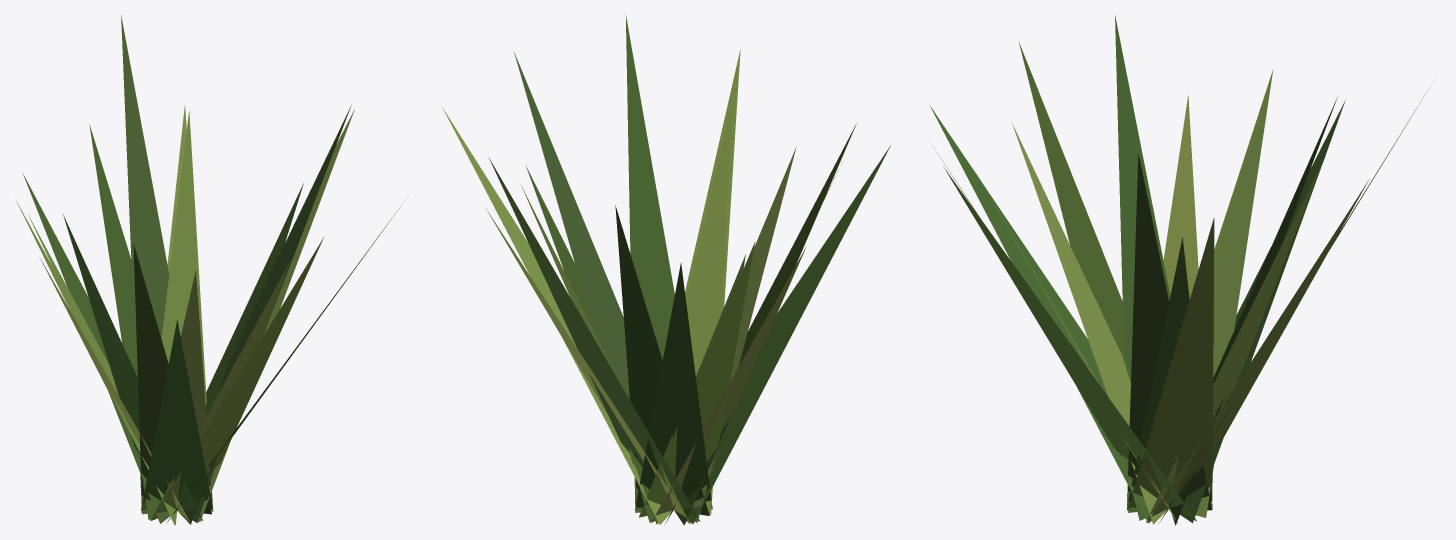
Rendered from grass-tuft.glb.
3 renders of one model, left to right at view 1: azimuth 30°, elevation 25°; view 2: azimuth 150°, elevation 25°; view 3: azimuth 270°, elevation 25°, orthographic. The views are drawn at different scales.
Parts seen in each view (by area): view 1: grass-tuft-c, grass-tuft-a, grass-tuft-b; view 2: grass-tuft-c, grass-tuft-a, grass-tuft-b; view 3: grass-tuft-b, grass-tuft-c, grass-tuft-a.
Boxes of the visible parts, x1=… form: grass-tuft-c: x1=15, y1=105, x2=351, y2=524; grass-tuft-a: x1=23, y1=105, x2=323, y2=524; grass-tuft-b: x1=28, y1=15, x2=400, y2=525; grass-tuft-c: x1=514, y1=52, x2=856, y2=525; grass-tuft-a: x1=485, y1=49, x2=890, y2=524; grass-tuft-b: x1=443, y1=14, x2=842, y2=525; grass-tuft-b: x1=944, y1=15, x2=1433, y2=524; grass-tuft-c: x1=977, y1=41, x2=1337, y2=525; grass-tuft-a: x1=930, y1=95, x2=1369, y2=523.
Bounding box in the file's own units: 0.1536 × 0.1748 × 0.1743.
